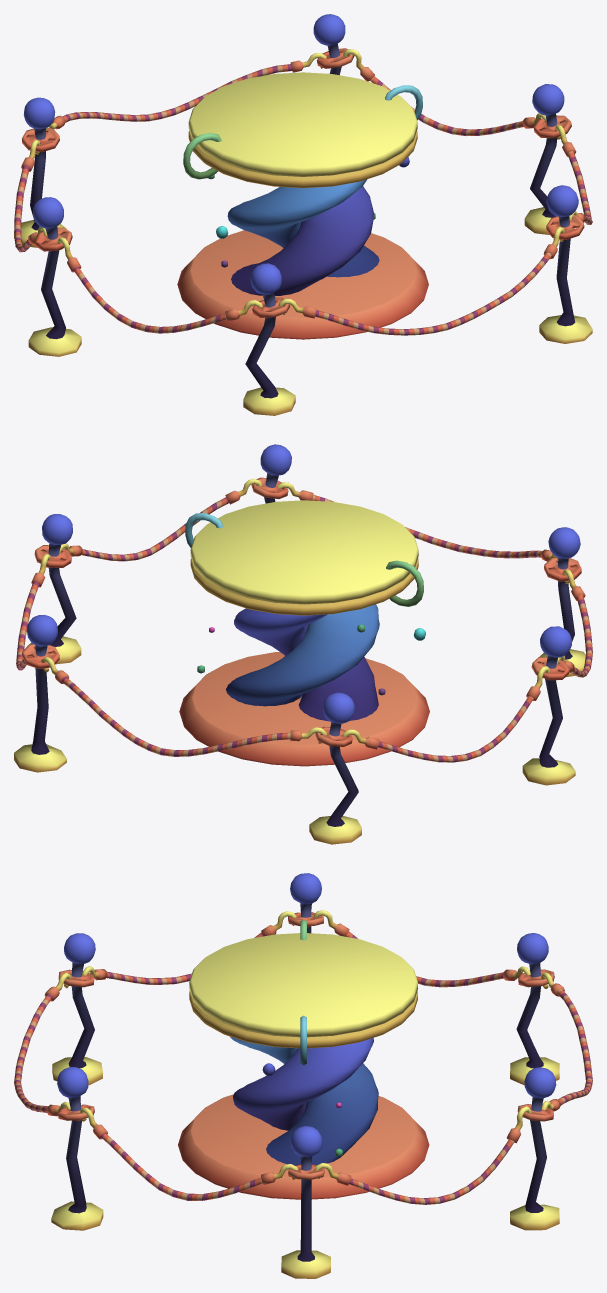
File: Podium.fbx
3 renders of one model, top to bottom at view 1: azimuth 30°, elevation 25°; view 2: azimuth 150°, elevation 25°; view 3: azimuth 270°, elevation 25°, orthographic.
Visible parts, largest first — view 1: Podium; view 2: Podium; view 3: Podium.
Boxes of the visible parts, x1,y1,x2,y2 form: Podium: (14,14,592,415); Podium: (14,444,592,844); Podium: (14,873,592,1278).
Bounding box in the file's own units: 544 × 171 × 506.
